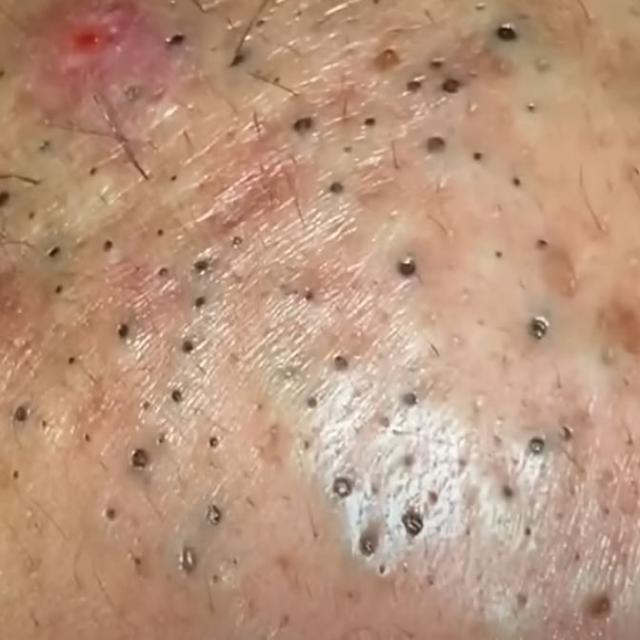dark spot: (352, 521, 383, 564), (200, 498, 231, 538), (519, 314, 555, 348), (326, 472, 356, 512), (398, 506, 431, 541), (421, 128, 449, 166), (177, 544, 204, 583), (489, 477, 524, 506), (388, 253, 422, 280), (130, 442, 154, 480), (436, 76, 471, 102), (47, 278, 77, 308), (532, 228, 560, 257), (114, 311, 136, 347), (288, 111, 316, 139), (404, 73, 428, 105), (494, 22, 522, 48), (324, 176, 350, 204), (396, 386, 428, 408), (331, 356, 355, 384), (102, 231, 125, 259), (8, 404, 34, 428), (168, 382, 191, 408), (178, 337, 206, 358), (527, 433, 552, 455), (467, 145, 488, 171), (508, 168, 531, 191), (48, 236, 70, 260), (192, 255, 212, 281), (205, 431, 225, 457), (303, 389, 321, 417), (152, 260, 172, 282), (358, 114, 381, 131), (197, 294, 211, 316)
